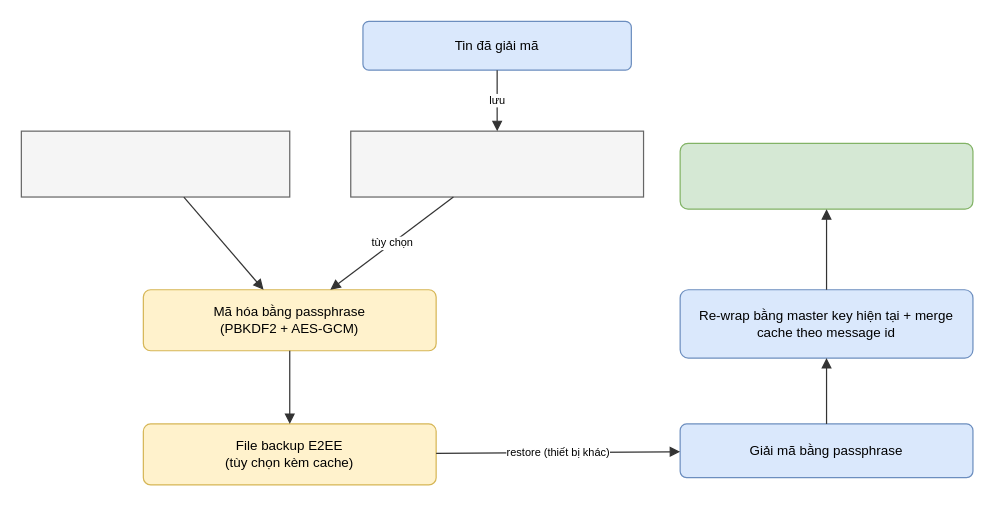
Image size: 994x506. Some labels were removed from this diagram. Each missing label, with the centre of its shape:
Local E2EE state (identity, prekey, ratchet, group): (x=155, y=163)
Lịch sử đọc lại được (không rollback identity): (x=826, y=175)
Plaintext cache (mã hóa bằng master key, trên thiết bị): (x=497, y=163)
